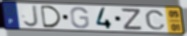4: (95, 6, 114, 30)
C: (144, 9, 167, 31)
D: (39, 5, 63, 29)
G: (69, 6, 91, 30)
J: (23, 5, 41, 28)
Z: (121, 8, 144, 31)
